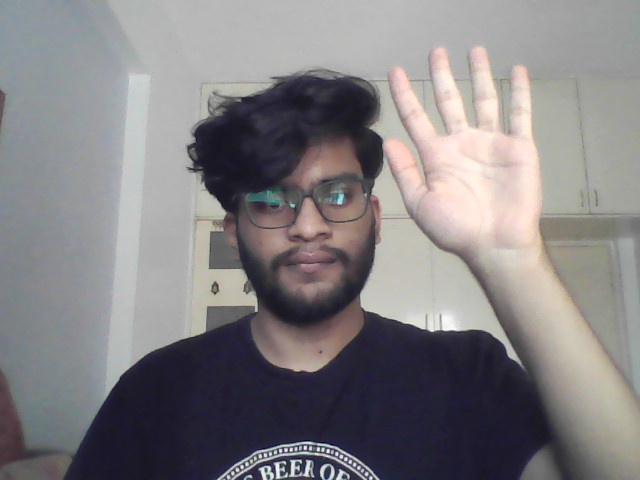Goodbye: (381, 44, 549, 251)
